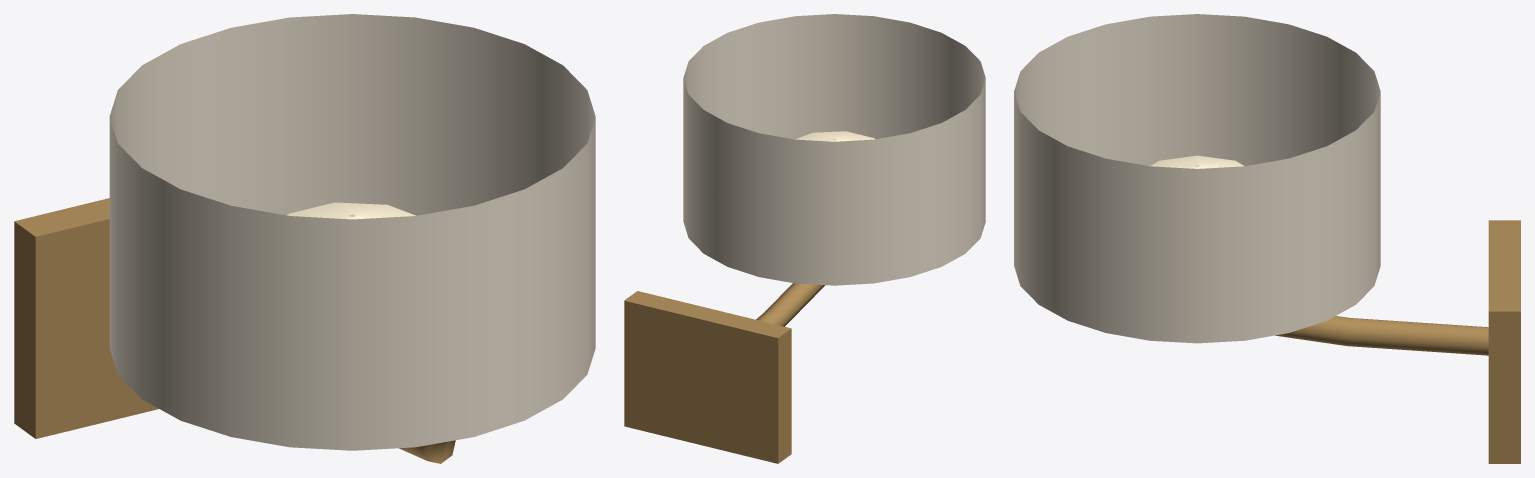
File: SAB-SCN-std.glb
The picture shows the model from 3 angles, left to right: view 1: azimuth 30°, elevation 25°; view 2: azimuth 150°, elevation 25°; view 3: azimuth 270°, elevation 25°; orthographic projection. The views are drawn at different scales.
Visible parts, largest first — view 1: SAB-SCN-std; view 2: SAB-SCN-std; view 3: SAB-SCN-std.
Boxes of the visible parts, box(x1,y1,x2,y2) form: SAB-SCN-std: box(14, 14, 595, 463); SAB-SCN-std: box(624, 14, 985, 463); SAB-SCN-std: box(1014, 14, 1520, 463).
Bounding box in the file's own units: 0.17 × 0.1673 × 0.235.
